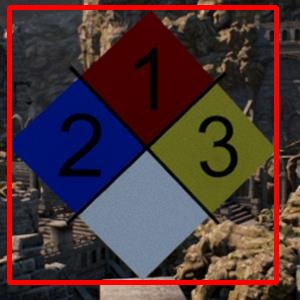nfpa: (9, 7, 276, 282)
